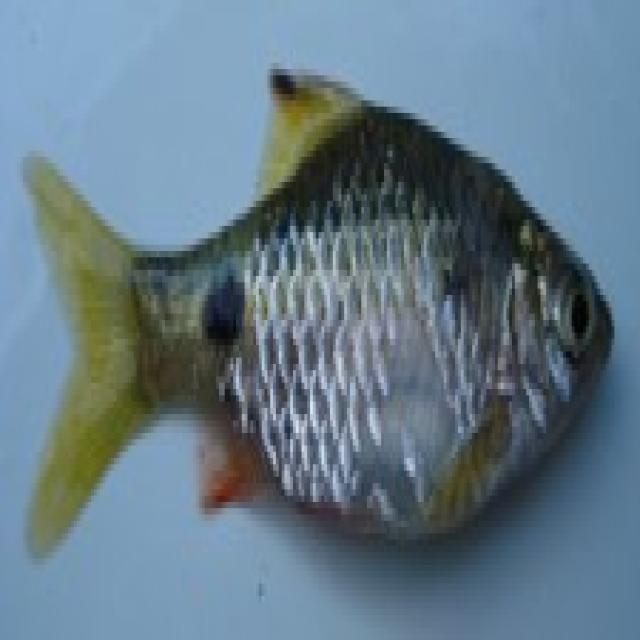Black-Spotted-Barb: (5, 19, 632, 586)
